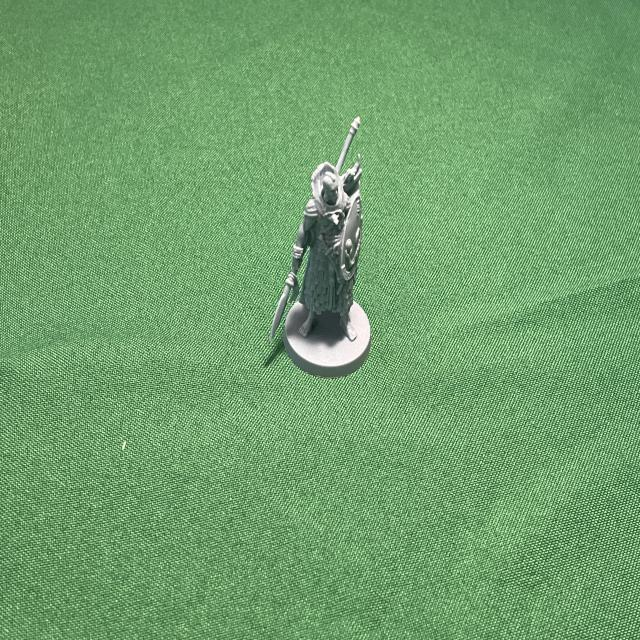isis_follower: (261, 116, 378, 383)
